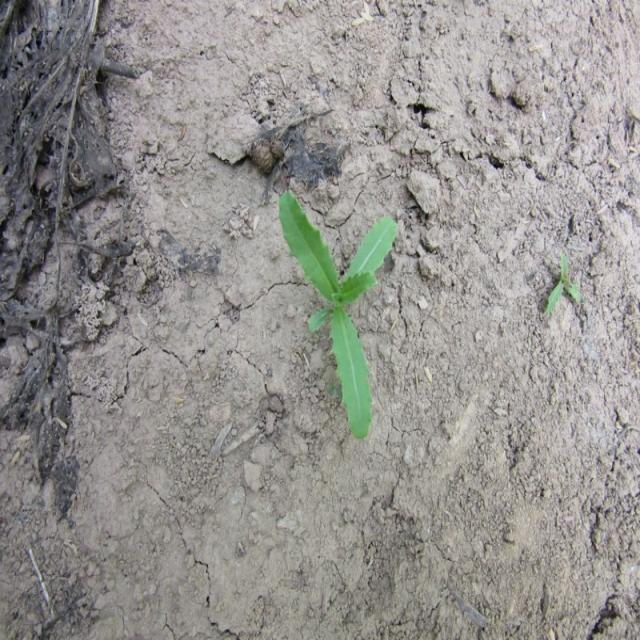cs: (275, 176, 402, 444)
